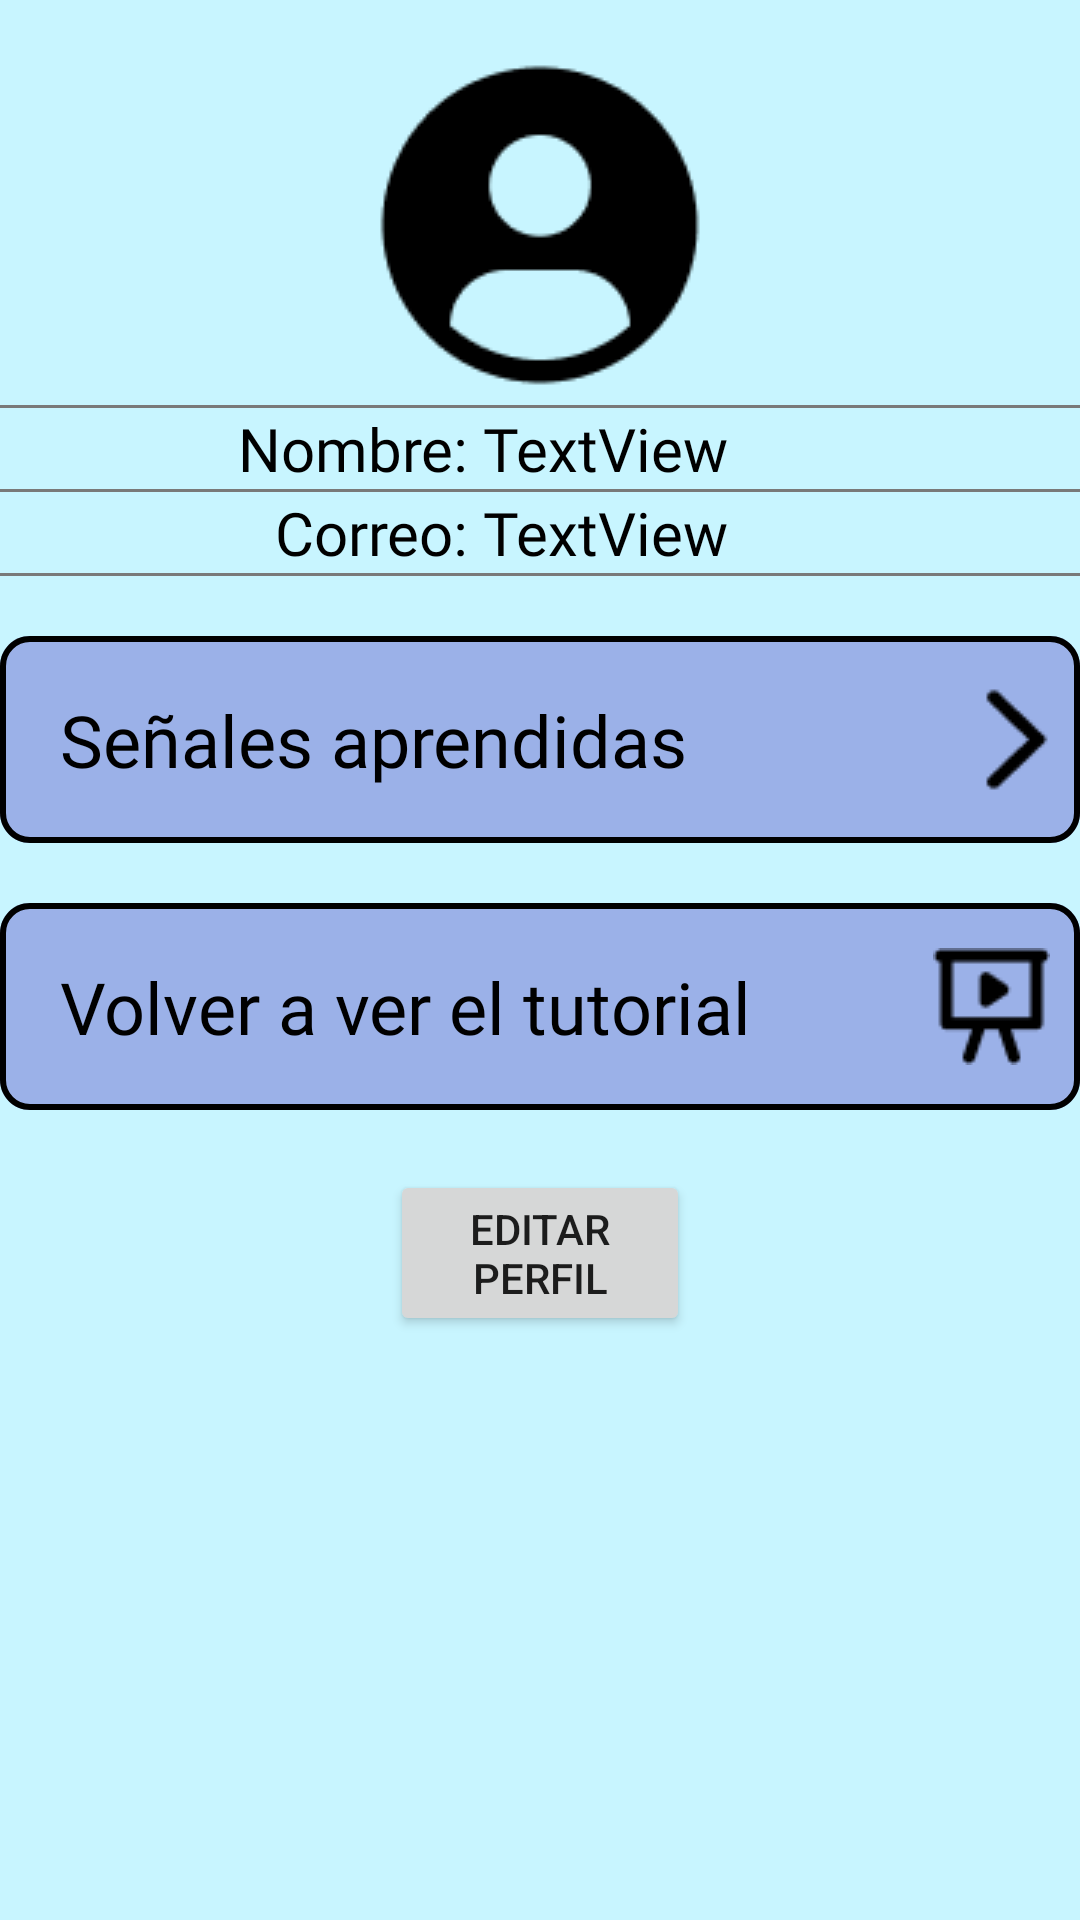

Point at icon controls on the screen. Image size 1080*1920, points as (x=x, y=y).
perfil: (x=540, y=225)
